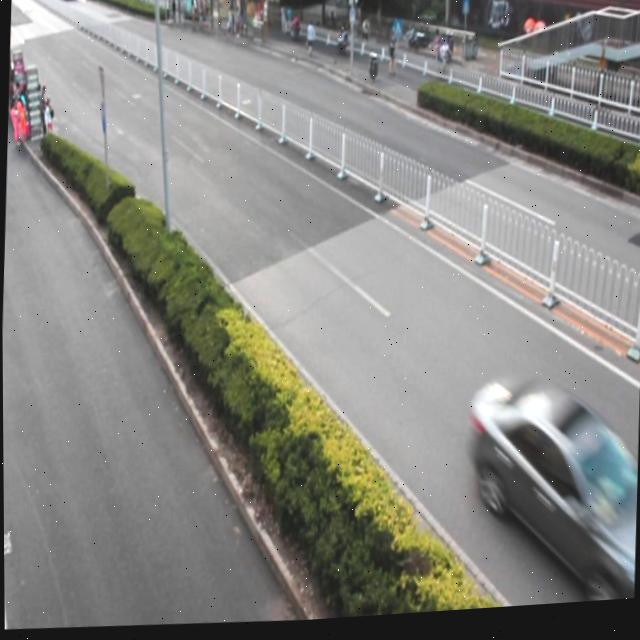car: (465, 374, 640, 614)
